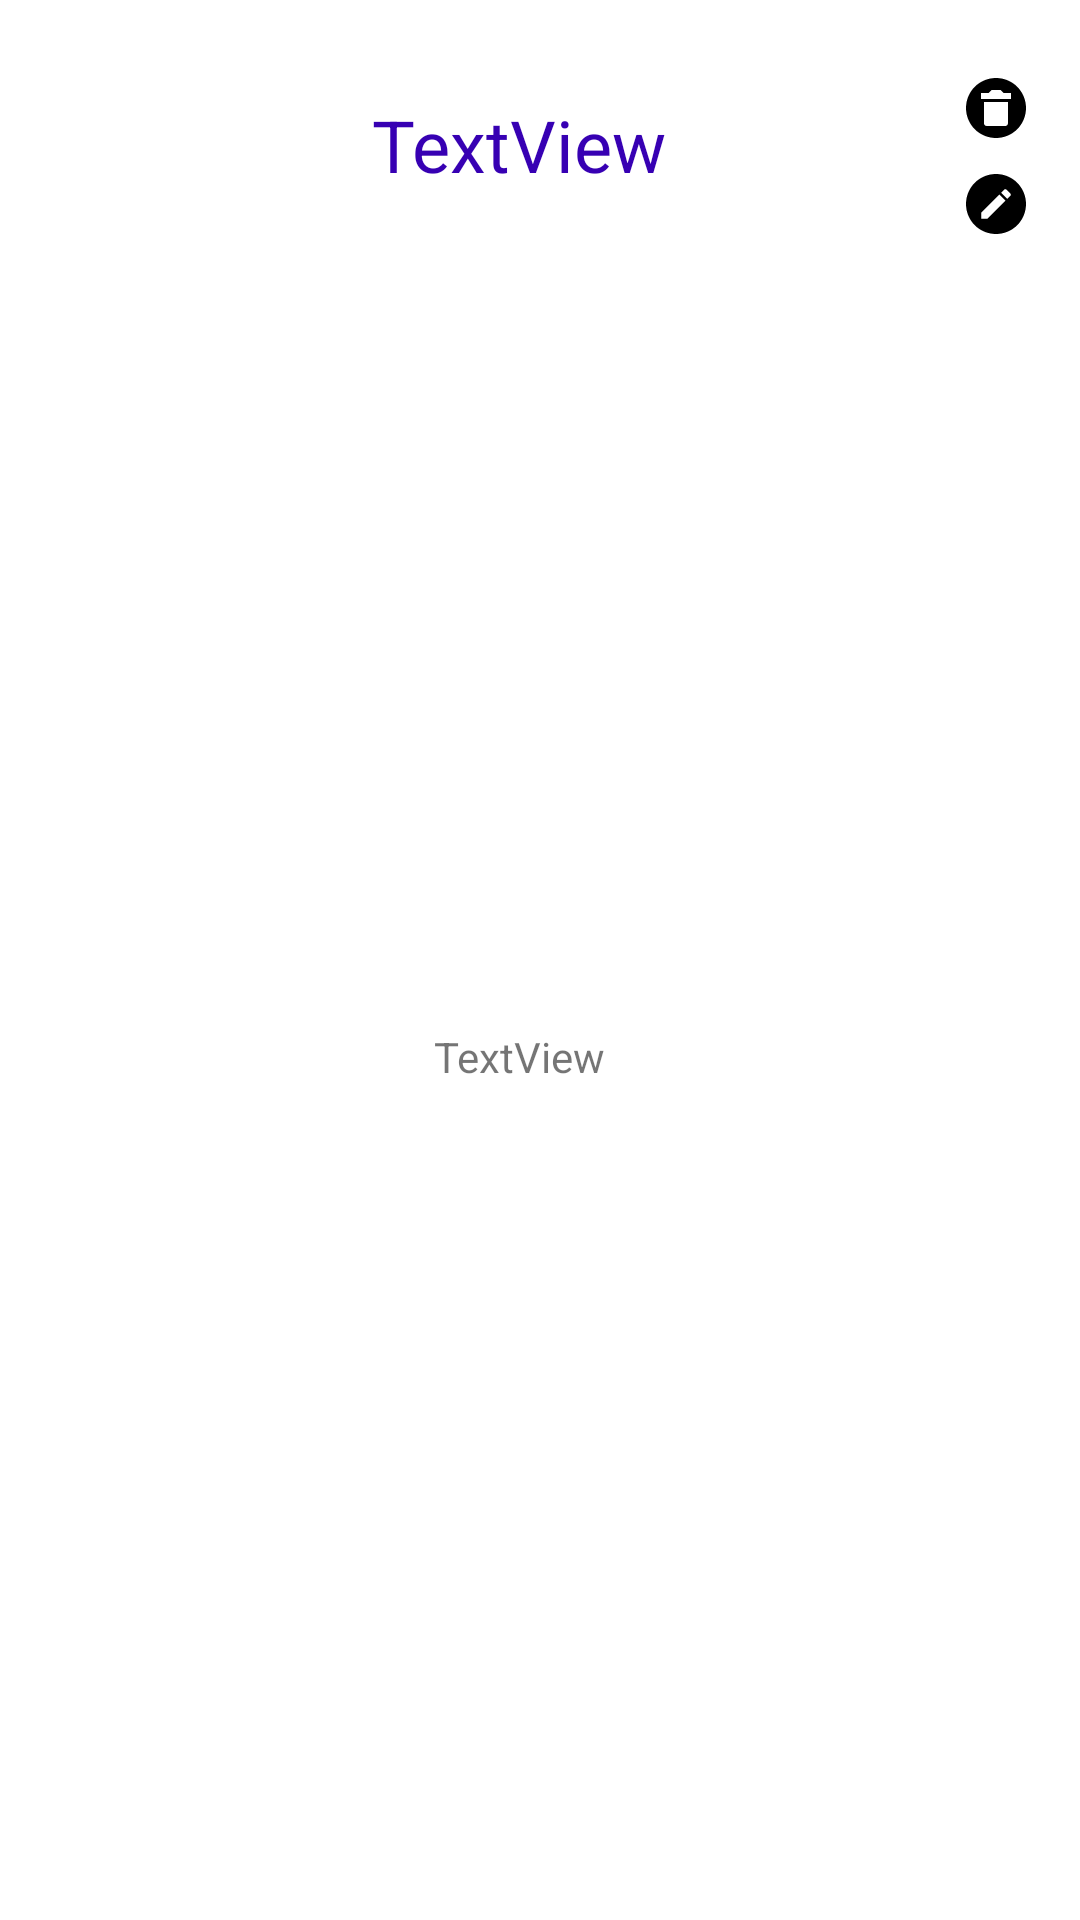

Named icons in this screenshot (1080px x 1920px) and their centers, (x=x, y=y):
delete: (x=996, y=108)
edit: (x=996, y=204)
